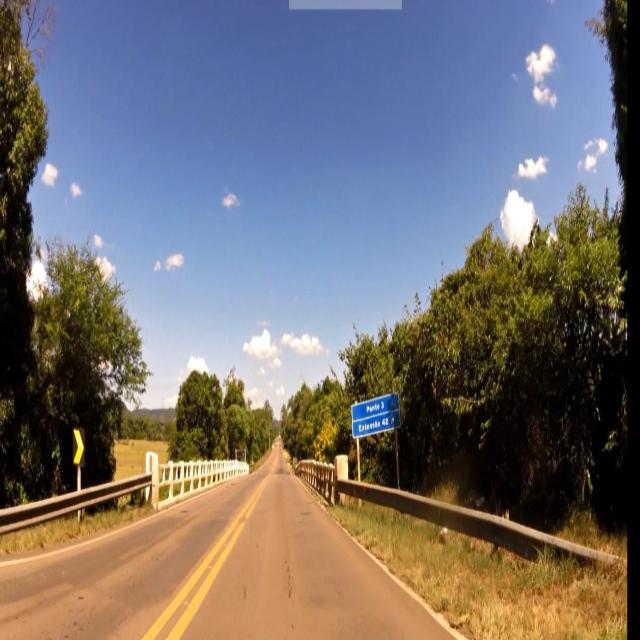LOC-6: (352, 398, 401, 436)
